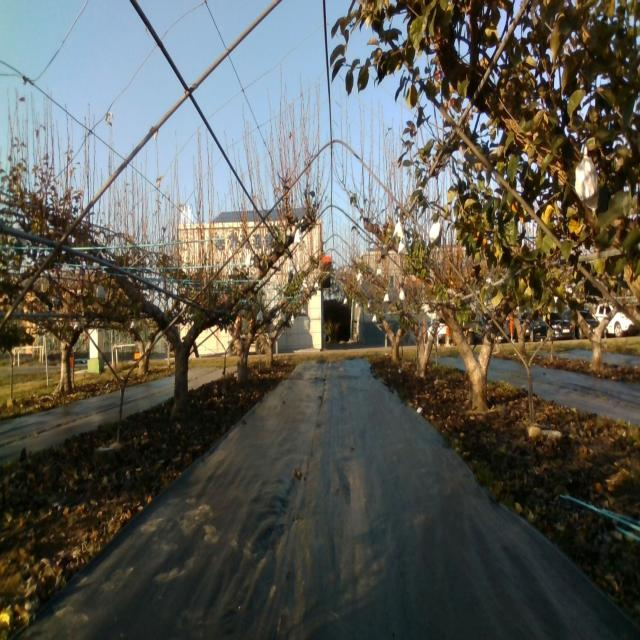pearbags: (575, 156, 597, 211), (429, 222, 441, 249)
